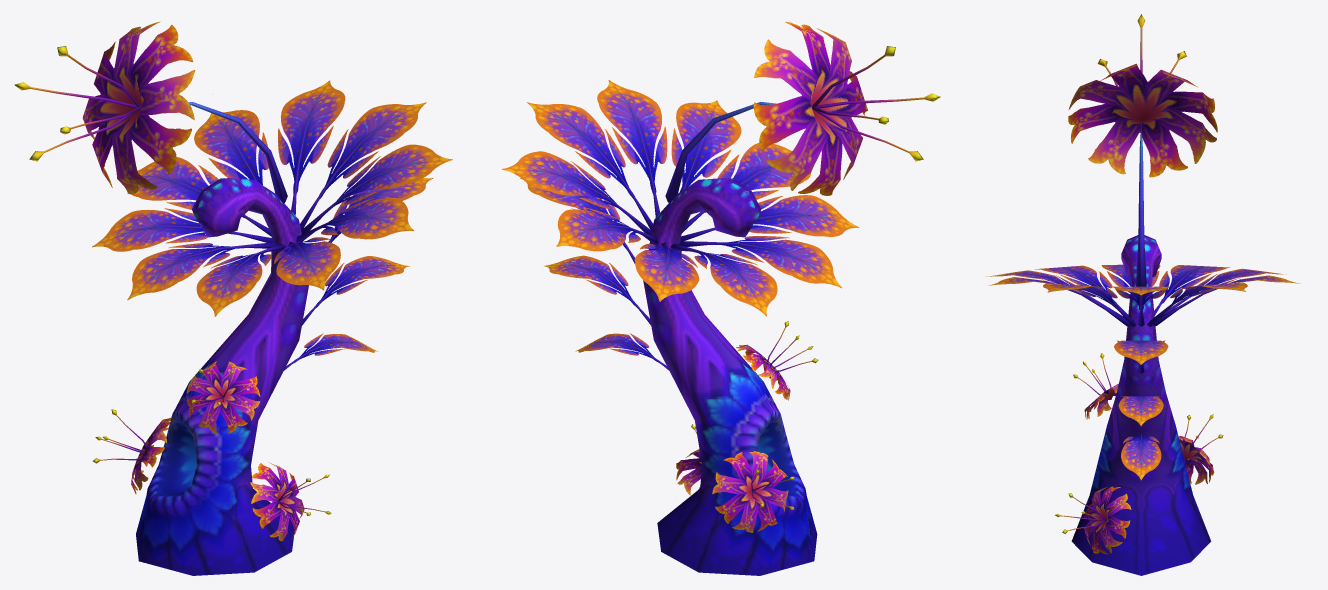
File: Blue_Tree_06b.FBX
The picture shows the model from 3 angles, left to right: view 1: azimuth 30°, elevation 25°; view 2: azimuth 150°, elevation 25°; view 3: azimuth 270°, elevation 25°; orthographic projection. The views are drawn at different scales.
Parts seen in each view (by area): view 1: Blue_Tree_06b; view 2: Blue_Tree_06b; view 3: Blue_Tree_06b.
Part boxes in pixels (box(x1,y1,x2,y2)): Blue_Tree_06b: box(14, 21, 452, 575); Blue_Tree_06b: box(502, 21, 940, 575); Blue_Tree_06b: box(986, 14, 1299, 575).
Bounding box in the file's own units: 332 × 416 × 280.
